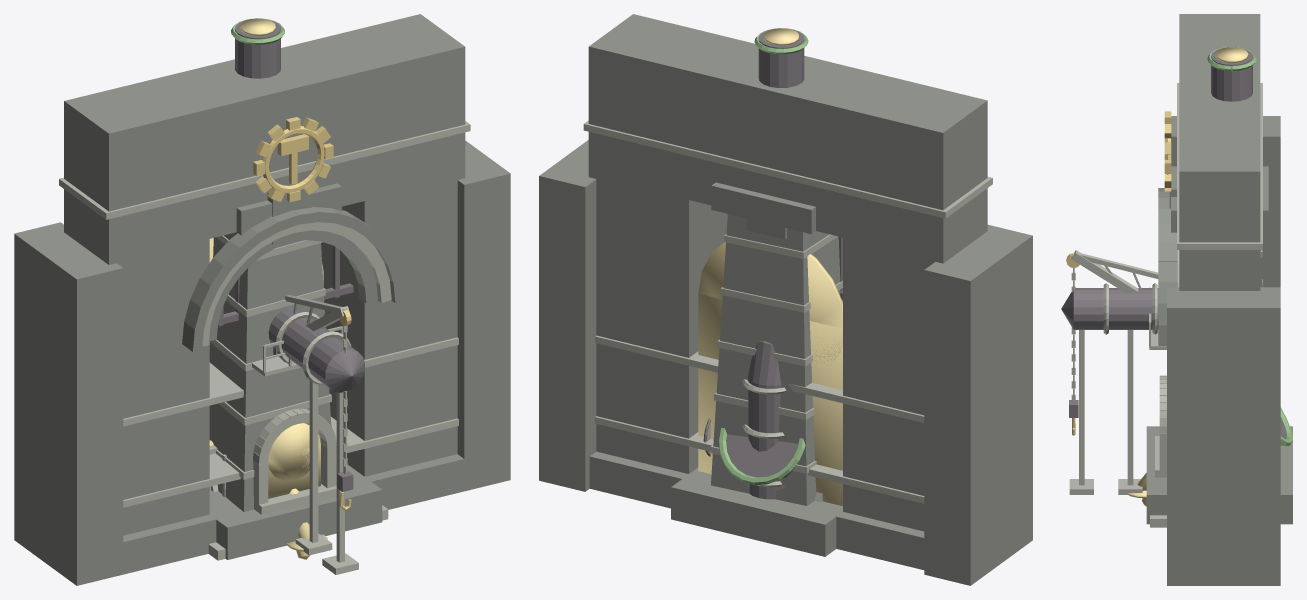
Rendered from InfernalF23Kit.fbx.
3 views of the same model, side by side, from view 1: azimuth 30°, elevation 25°; view 2: azimuth 150°, elevation 25°; view 3: azimuth 270°, elevation 25° (orthographic). The views are drawn at different scales.
Parts seen in each view (by area): view 1: FurnaceDoorGiant__STONE, FurnaceTower__STONE, FurnaceDoorGiant__TRIM, FurnaceTower__TRIM, BellowsDuctRun__TRIM, BellowsDuctRun__METAL, FurnaceDoorGiant__GOLD, FurnaceTower__GLOW, FurnaceTower__METAL, JibCrane__TRIM, FurnaceDoorGiant__METAL; view 2: FurnaceDoorGiant__STONE, FurnaceTower__STONE, FurnaceDoorGiant__GLOW, FurnaceDoorGiant__TRIM, BellowsDuctRun__METAL, FurnaceTower__TRIM, TiltingCrucible__METAL, FurnaceTower__METAL, TiltingCrucible__ACCENT, BellowsDuctRun__TRIM; view 3: FurnaceDoorGiant__STONE, BellowsDuctRun__METAL, BellowsDuctRun__TRIM, FurnaceTower__STONE, FurnaceDoorGiant__TRIM, JibCrane__TRIM, FurnaceTower__METAL, FurnaceTower__TRIM, FurnaceDoorGiant__GOLD, FurnaceTower__GLOW, FurnaceTower__ACCENT.
Boxes of the visible parts, x1,y1,x2,y2 form: FurnaceDoorGiant__STONE: [14, 14, 510, 585]; FurnaceTower__STONE: [209, 183, 382, 559]; FurnaceDoorGiant__TRIM: [59, 121, 470, 560]; FurnaceTower__TRIM: [209, 235, 343, 514]; BellowsDuctRun__TRIM: [276, 312, 358, 574]; BellowsDuctRun__METAL: [268, 307, 364, 392]; FurnaceDoorGiant__GOLD: [253, 117, 333, 202]; FurnaceTower__GLOW: [240, 18, 320, 498]; FurnaceTower__METAL: [235, 19, 280, 354]; JibCrane__TRIM: [285, 295, 349, 474]; FurnaceDoorGiant__METAL: [218, 245, 353, 326]; FurnaceDoorGiant__STONE: [539, 14, 1032, 585]; FurnaceTower__STONE: [671, 182, 842, 556]; FurnaceDoorGiant__GLOW: [698, 242, 842, 506]; FurnaceDoorGiant__TRIM: [583, 120, 992, 503]; BellowsDuctRun__METAL: [748, 341, 781, 499]; FurnaceTower__TRIM: [710, 234, 842, 473]; TiltingCrucible__METAL: [703, 418, 798, 481]; FurnaceTower__METAL: [758, 29, 804, 87]; TiltingCrucible__ACCENT: [718, 428, 805, 485]; BellowsDuctRun__TRIM: [742, 379, 786, 487]; FurnaceDoorGiant__STONE: [1158, 14, 1280, 585]; BellowsDuctRun__METAL: [1061, 288, 1158, 329]; BellowsDuctRun__TRIM: [1069, 283, 1157, 494]; FurnaceTower__STONE: [1146, 166, 1292, 524]; FurnaceDoorGiant__TRIM: [1150, 83, 1262, 527]; JibCrane__TRIM: [1071, 250, 1158, 401]; FurnaceTower__METAL: [1211, 47, 1252, 101]; FurnaceTower__TRIM: [1149, 250, 1262, 477]; FurnaceDoorGiant__GOLD: [1164, 111, 1171, 192]; FurnaceTower__GLOW: [1215, 47, 1248, 62]; FurnaceTower__ACCENT: [1207, 47, 1256, 70].
Bounding box in the file's own units: 56 × 61.55 × 28.56.
